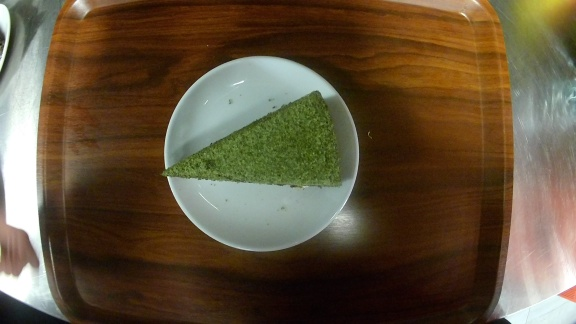fistiklipasta: (164, 56, 362, 252)
